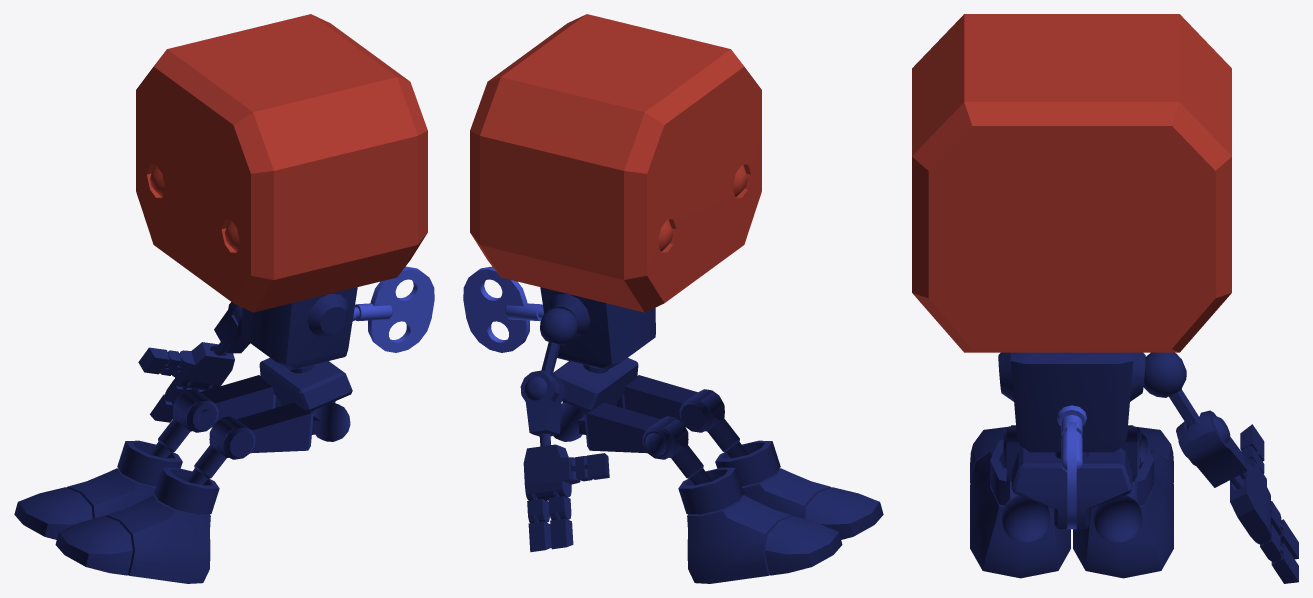
File: whell_chair_test_man.fbx
3 renders of one model, left to right at view 1: azimuth 30°, elevation 25°; view 2: azimuth 150°, elevation 25°; view 3: azimuth 270°, elevation 25°, orthographic. The views are drawn at different scales.
Parts seen in each view (by area): view 1: head_low; view 2: head_low; view 3: head_low.
Boxes of the visible parts, x1,y1,x2,y2 form: head_low: (14, 14, 434, 583); head_low: (463, 14, 883, 583); head_low: (912, 14, 1298, 583).
Bounding box in the file's own units: 710 × 818 × 489.
